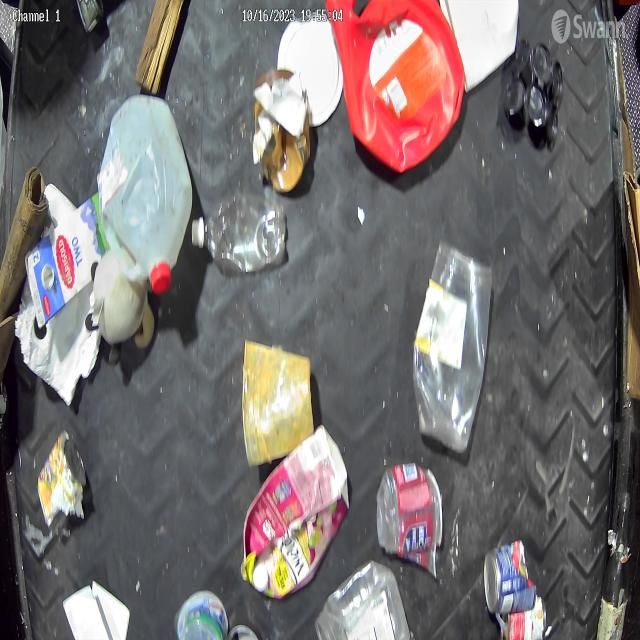can: (32, 427, 89, 532), (481, 535, 538, 627)
milk_jug: (94, 93, 192, 294)
non_white_jug: (326, 0, 465, 170)
plastic_bottle: (189, 190, 287, 284)
